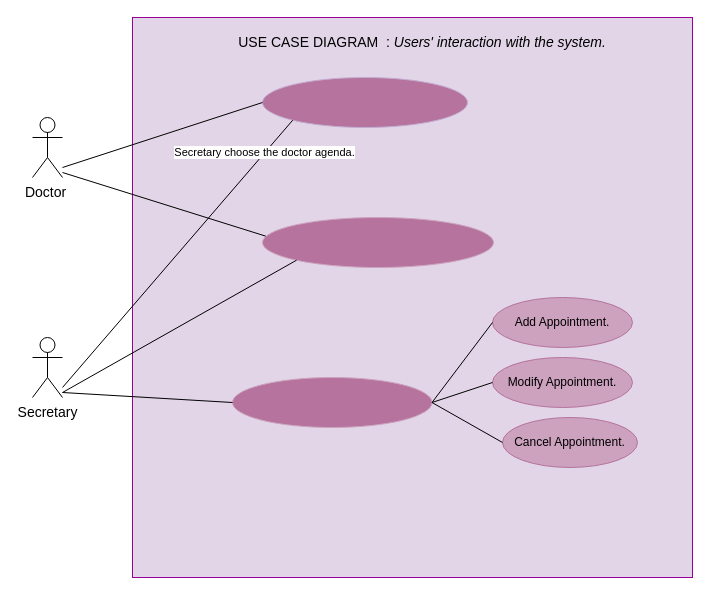
Image size: 710x595. Some labels were removed from this diagram. Here are the shapes that lost their labels. From the top down, the box of each, then its label:
(262, 76, 468, 128): Selection / choose agenda.
(262, 216, 494, 268): Check and access to agenda.
(232, 376, 432, 428): Manage Appointment.
